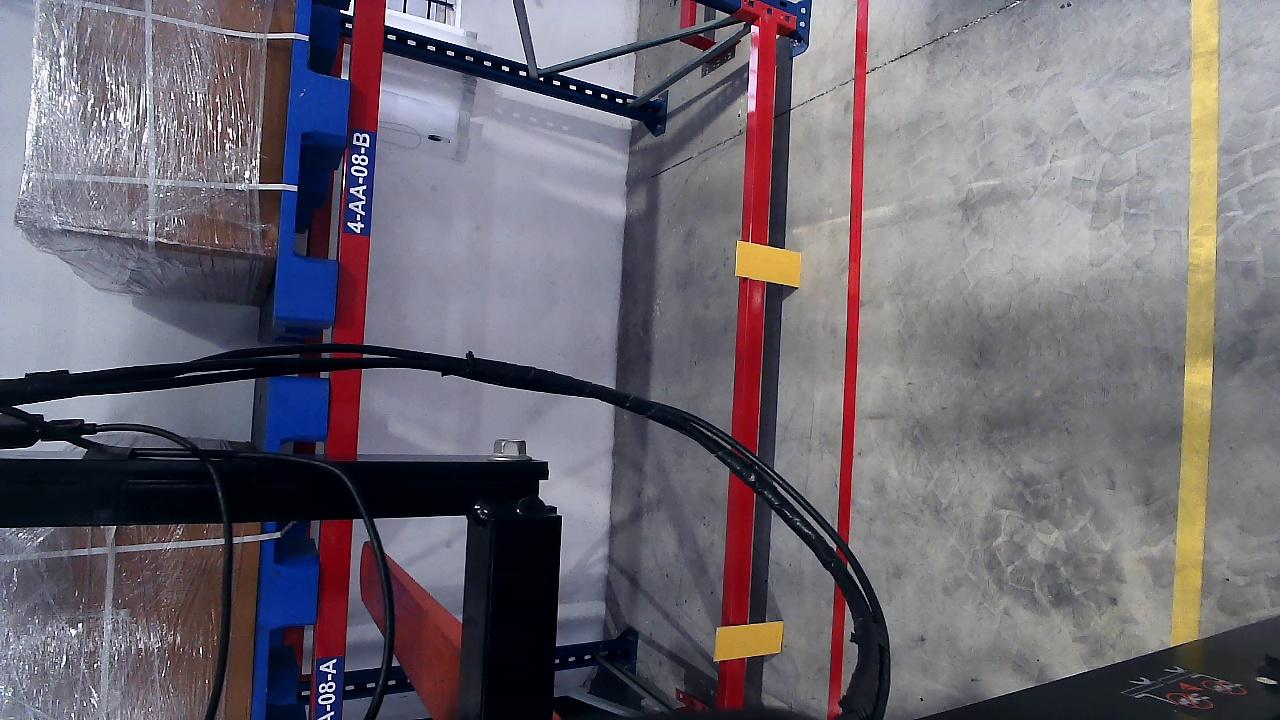h_rack: (727, 11, 775, 690), (331, 1, 388, 338)
orange_strip: (735, 241, 801, 287), (715, 621, 784, 661)
red_line: (833, 9, 867, 618)
small_pallet: (268, 0, 361, 323)
yellow_line: (1173, 61, 1220, 649)
